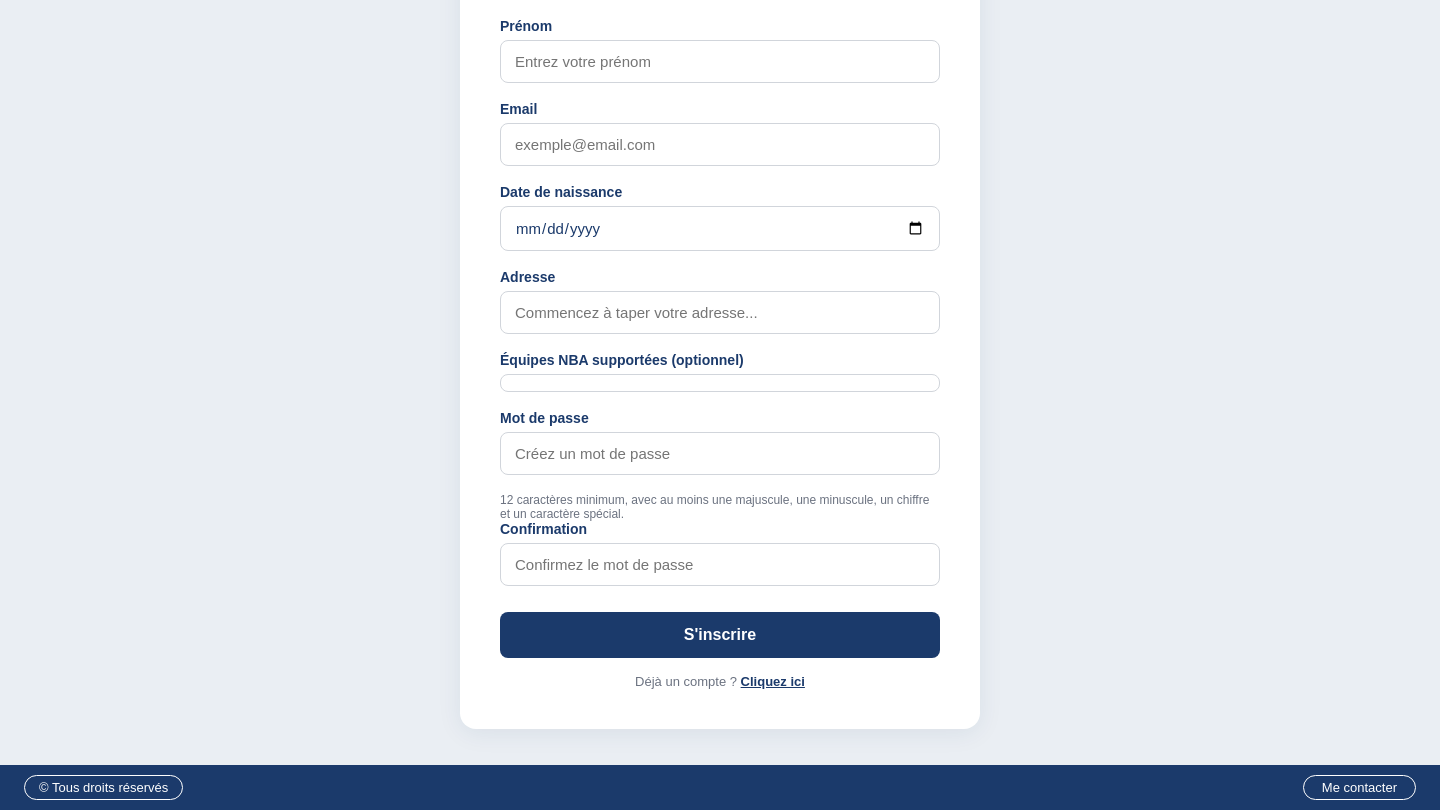
Scenario: RegisterPage › affiche une erreur si des champs obligatoires manquent
(page scrolled)
Step 1. Click the button "S'inscrire" → (720, 635), box top-left (500, 612), bottom-right (940, 658)
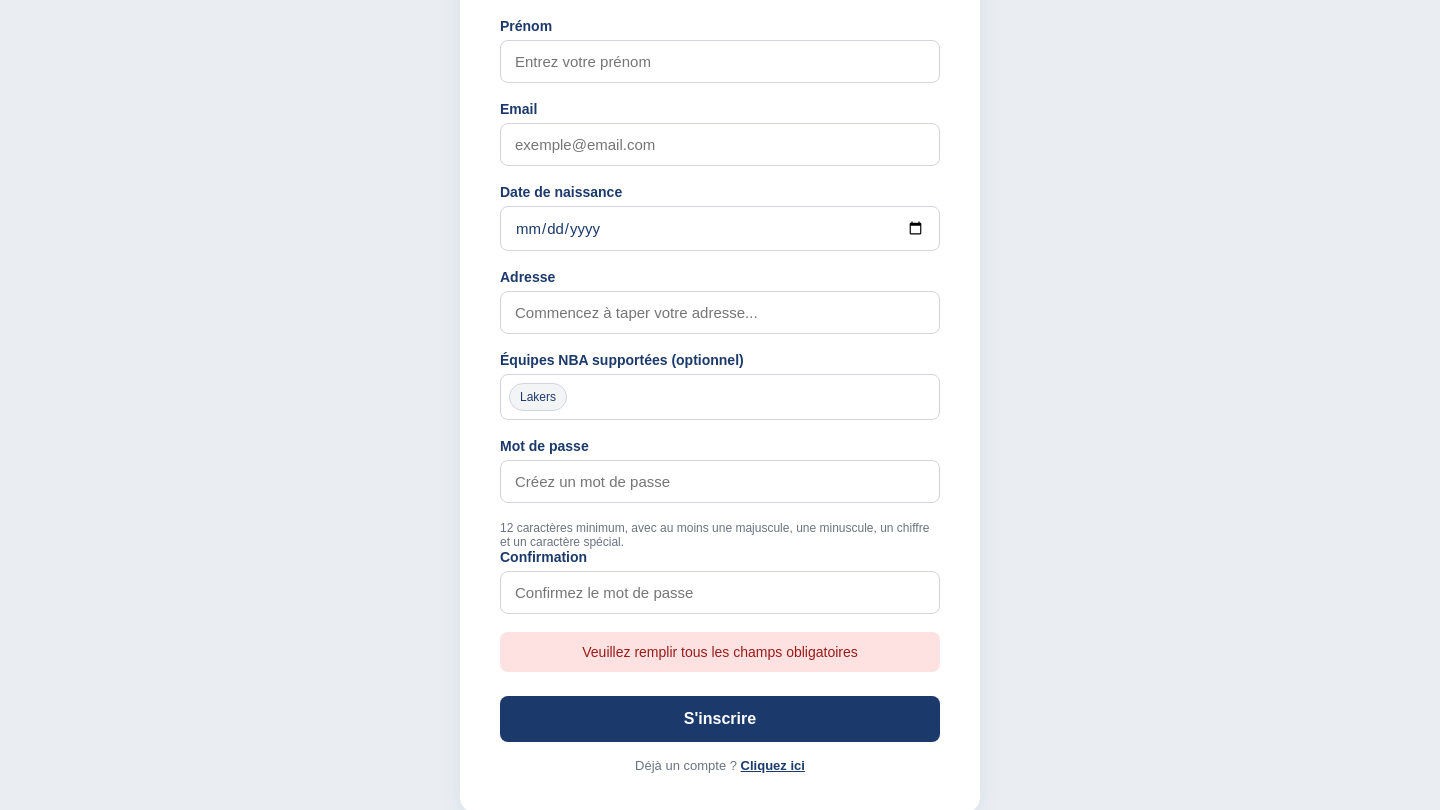
Check: the text "Veuillez remplir tous les champs obligatoires" is shown, box top-left (500, 632), bottom-right (940, 672)
